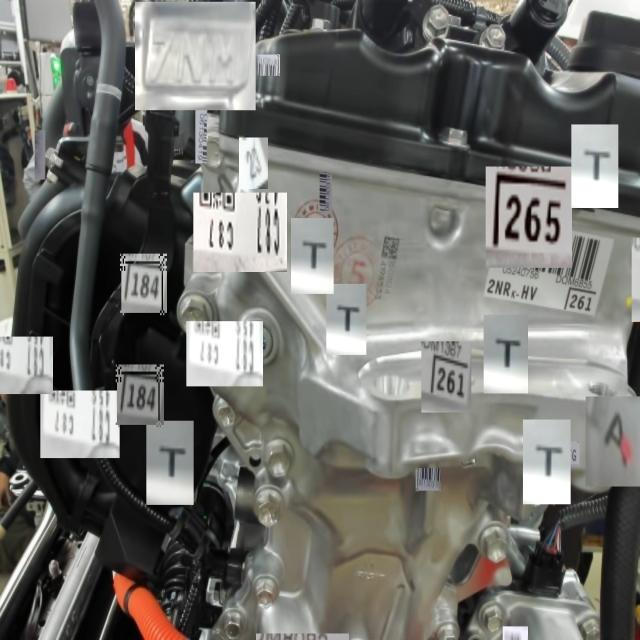Absorber LH-23: (243, 142, 265, 184)
Compressor-A: (598, 408, 630, 470)
Compressor-T: (154, 436, 188, 487), (531, 438, 565, 488), (493, 333, 523, 378), (581, 144, 613, 186), (300, 234, 327, 276), (332, 298, 360, 335)
Engine Assy-184: (130, 270, 160, 300), (125, 383, 156, 412)
Engine Assy-261: (430, 354, 470, 404), (562, 285, 596, 317)
Engine Assy-265: (492, 172, 566, 252)
Hose Canister-PT: (93, 77, 124, 111)
Transaxele-7NM: (146, 27, 244, 92)
Transaxele-C87-A27: (202, 203, 284, 260), (194, 333, 259, 379), (49, 406, 112, 446), (0, 347, 47, 382)
